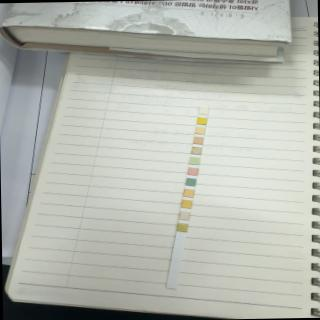mark: (190, 156, 200, 164), (186, 178, 196, 186), (182, 200, 192, 208), (180, 212, 190, 220), (177, 223, 187, 231), (198, 107, 208, 114), (188, 168, 198, 175), (183, 189, 193, 196), (196, 126, 204, 134), (194, 137, 203, 144), (192, 148, 202, 154), (197, 118, 206, 124)
